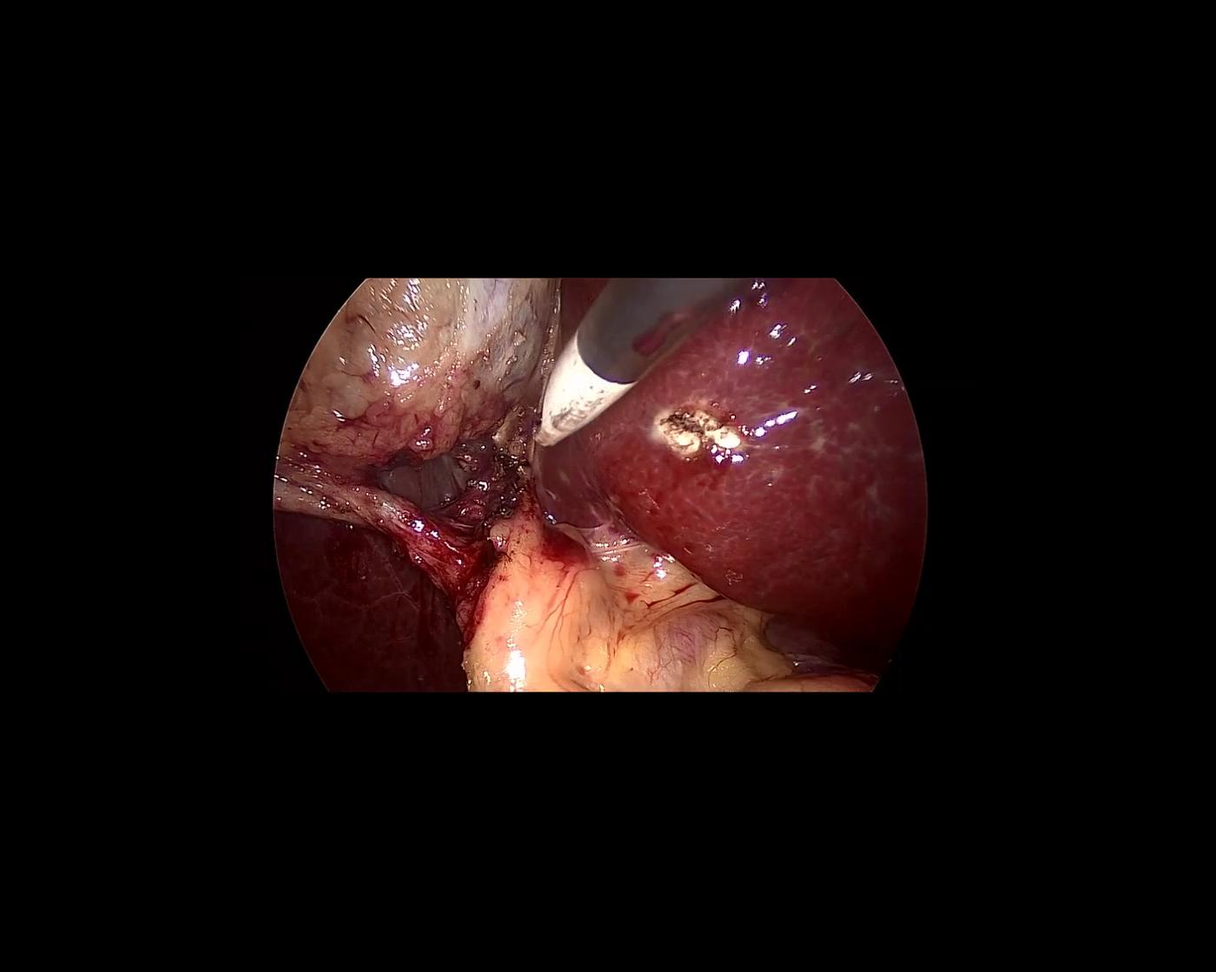Cautery: (486, 206, 761, 458)
Gallbladder: (275, 278, 562, 516)
Liver: (514, 217, 989, 645), (275, 493, 466, 710)
